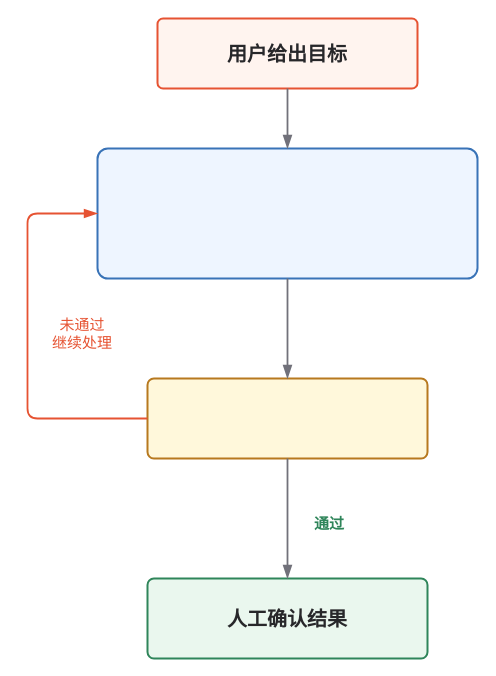
Image size: 496x676. Some labels were removed from this diagram. Here are the shapes that lost their labels. From the top down, the centre of each, then its label:
pixel 287 213: Agent 循环 观察 · 决定 · 行动 调用工具 · 读取结果
pixel 287 418: 程序验收
